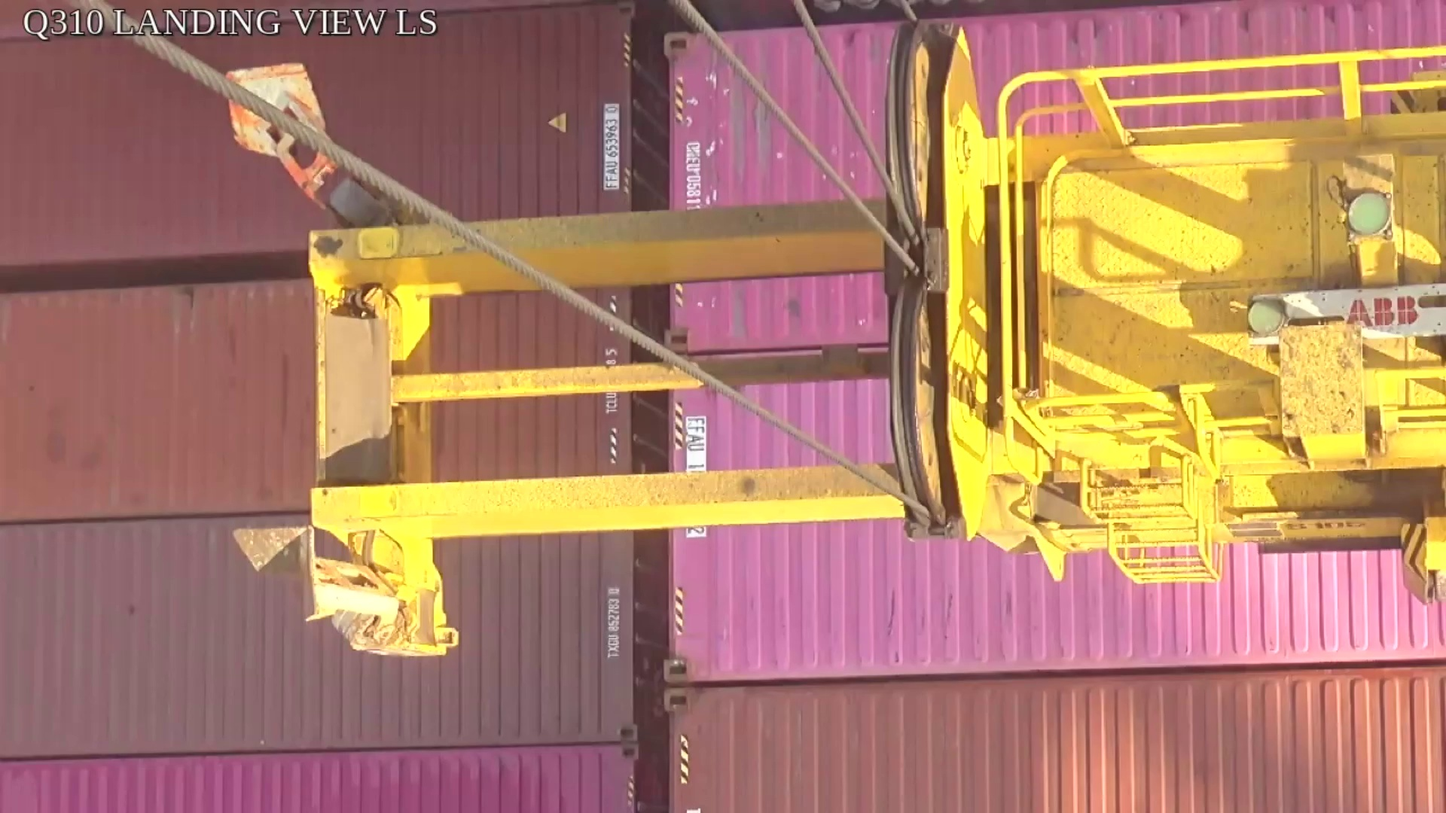aa: (885, 21, 989, 541)
